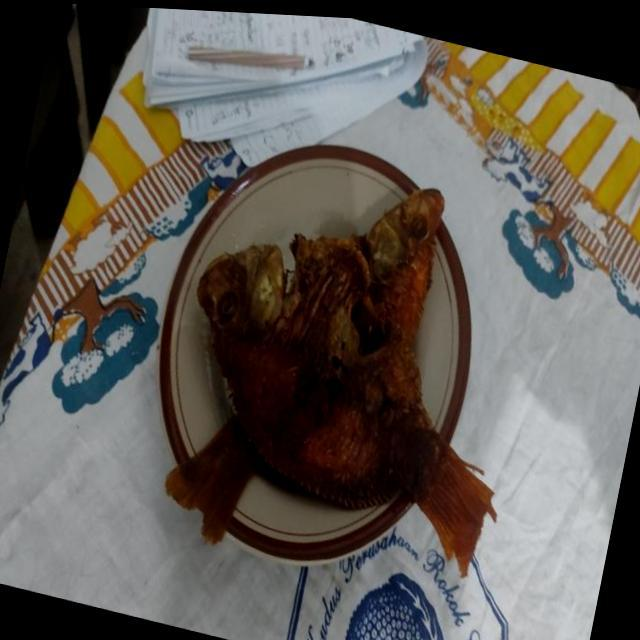ikan_mujair: (196, 231, 497, 578), (168, 190, 446, 541)
